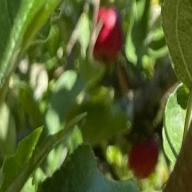Apples: (95, 7, 123, 62), (130, 134, 158, 178)
